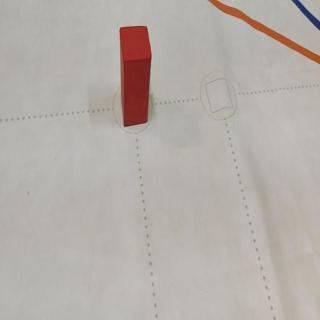redbox: (119, 25, 152, 126)
